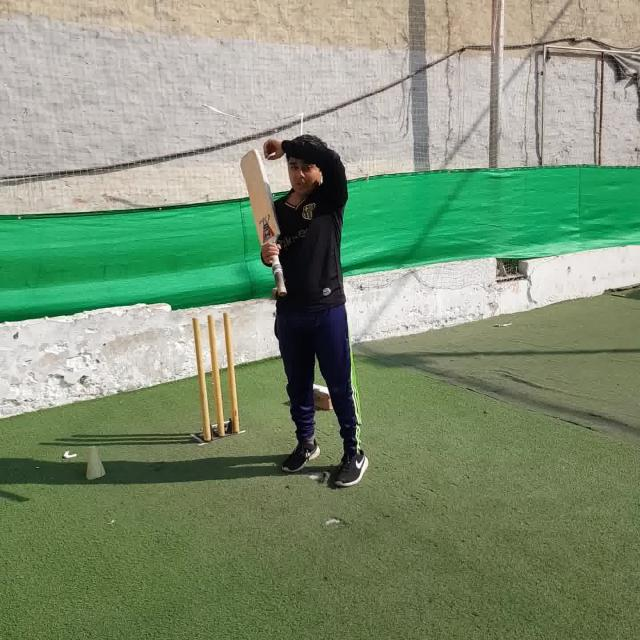bat: (239, 151, 289, 295)
